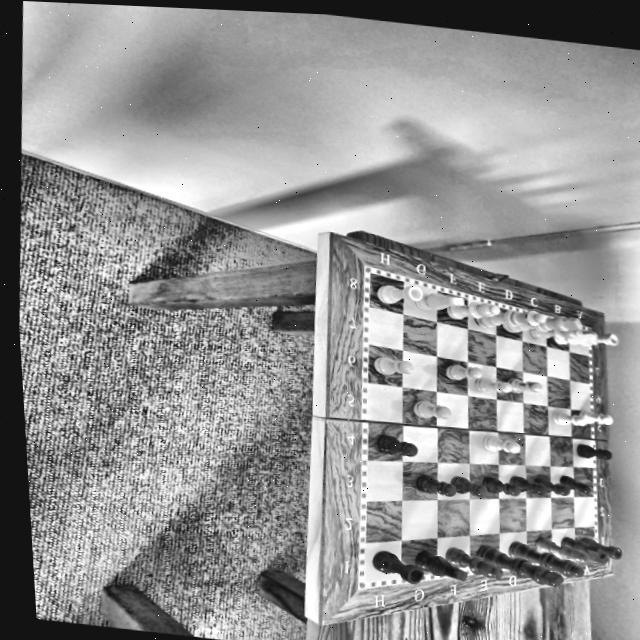black-bishop: (442, 545, 504, 582), (531, 533, 589, 565)
black-king: (470, 542, 566, 592)
black-knight: (413, 547, 470, 585), (557, 533, 610, 566)
black-pawn: (369, 427, 421, 459), (412, 469, 458, 500), (478, 470, 523, 499), (447, 472, 489, 500), (506, 471, 547, 497), (530, 474, 572, 499), (571, 440, 612, 463), (556, 473, 592, 495)
black-queen: (505, 539, 585, 583)
black-rook: (368, 546, 425, 588), (579, 535, 622, 561)
white-bishop: (439, 294, 502, 327), (528, 321, 583, 346)
white-king: (501, 308, 583, 342)
white-knight: (410, 284, 466, 320), (551, 325, 599, 348)
white-pawn: (368, 352, 416, 381), (477, 430, 521, 456), (407, 397, 452, 422), (440, 359, 483, 384), (501, 373, 544, 396), (573, 404, 614, 428), (470, 374, 512, 396), (549, 406, 587, 430)
white-queen: (470, 299, 547, 336)
white-rook: (371, 277, 425, 311), (579, 326, 619, 350)
